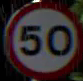Speed limit: (4, 2, 82, 77)
